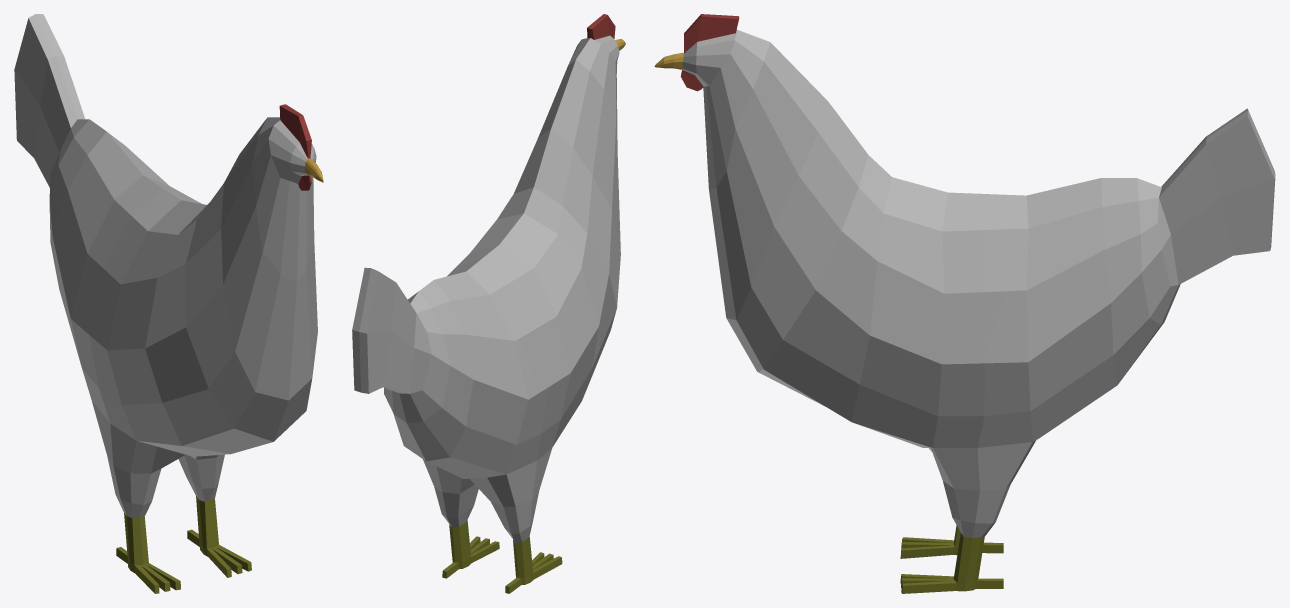
Rendered from Chicken.glb.
3 renders of one model, left to right at view 1: azimuth 30°, elevation 25°; view 2: azimuth 150°, elevation 25°; view 3: azimuth 270°, elevation 25°, orthographic. The views are drawn at different scales.
Parts seen in each view (by area): view 1: 21chikenFinal; view 2: 21chikenFinal; view 3: 21chikenFinal.
Part boxes in pixels (left/top/right/bottom): 21chikenFinal: left=14, top=14, right=323, bottom=593; 21chikenFinal: left=352, top=14, right=625, bottom=593; 21chikenFinal: left=654, top=14, right=1275, bottom=593.
Size of the model in its own units: 0.1421 by 0.4752 by 0.4811.
Materials: 1 (1 with a texture image).
